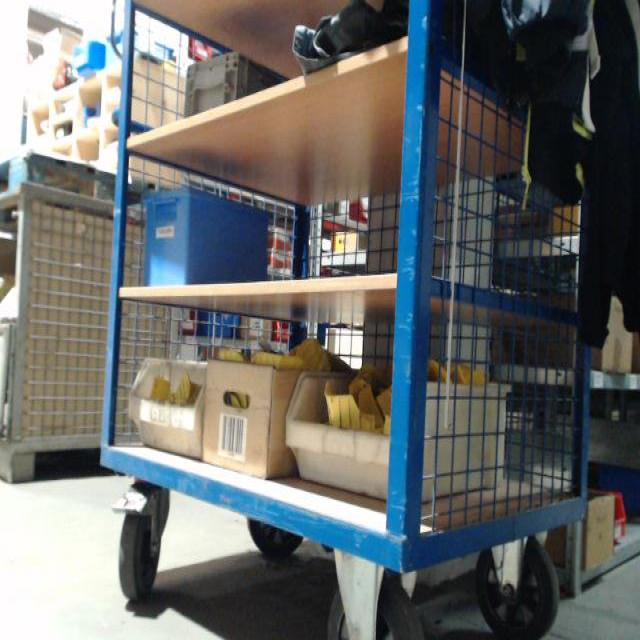small_load_carrier: (134, 184, 273, 298)
stillage: (1, 177, 199, 487)
